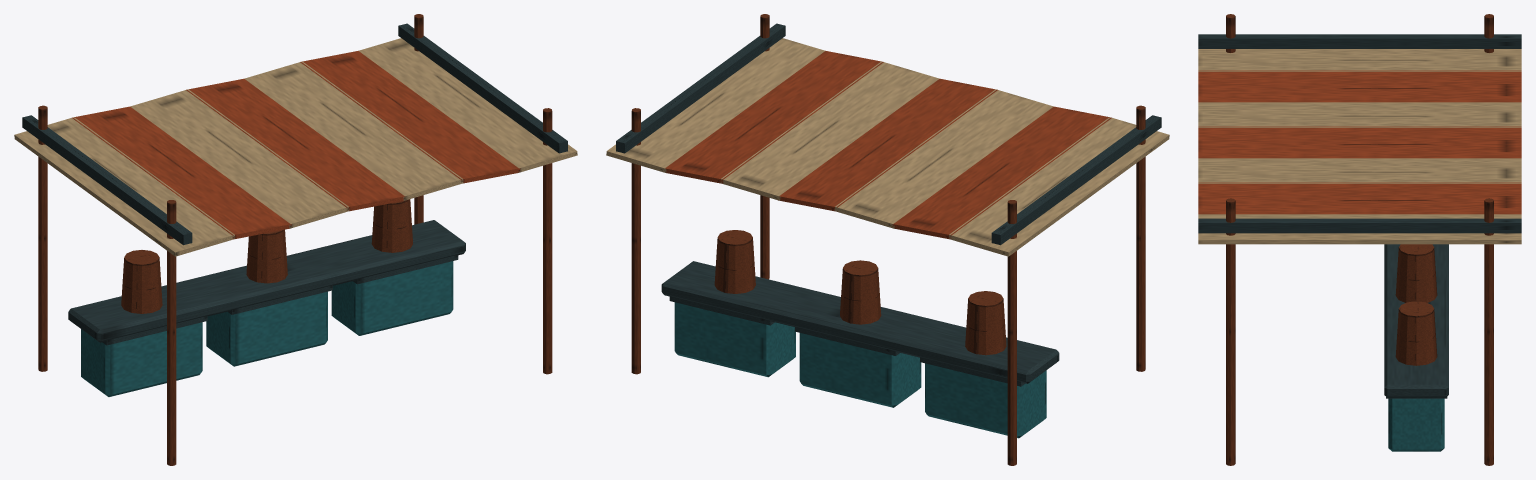
The model's file is stall.glb.
3 renders of one model, left to right at view 1: azimuth 30°, elevation 25°; view 2: azimuth 150°, elevation 25°; view 3: azimuth 270°, elevation 25°, orthographic.
Parts seen in each view (by area): view 1: stall_pale.003, stall_cloth.003, stall_metal.003, stall_paint.003, stall_rust.003; view 2: stall_pale.003, stall_cloth.003, stall_metal.003, stall_paint.003, stall_rust.003; view 3: stall_cloth.003, stall_pale.003, stall_metal.003, stall_rust.003, stall_paint.003.
Boxes of the visible parts, x1,y1,x2,y2 form: stall_pale.003: [14, 38, 577, 256]; stall_cloth.003: [72, 51, 520, 239]; stall_metal.003: [22, 23, 567, 345]; stall_paint.003: [81, 261, 453, 396]; stall_rust.003: [38, 14, 552, 465]; stall_pale.003: [606, 38, 1169, 256]; stall_cloth.003: [664, 51, 1111, 239]; stall_metal.003: [616, 23, 1161, 386]; stall_paint.003: [674, 302, 1046, 438]; stall_rust.003: [631, 14, 1145, 465]; stall_cloth.003: [1198, 70, 1521, 214]; stall_pale.003: [1198, 49, 1521, 244]; stall_metal.003: [1198, 34, 1521, 398]; stall_rust.003: [1226, 14, 1493, 465]; stall_paint.003: [1388, 398, 1444, 451].
Size of the model in its own units: 5.78 by 3.6 by 4.
Materials: 5 (5 with a texture image).
